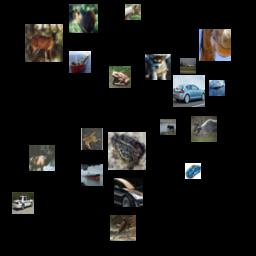airplane: (180, 58, 196, 74), (209, 80, 225, 96)
automobile: (173, 75, 205, 107), (114, 178, 143, 207), (12, 192, 34, 214), (185, 163, 201, 179)
bird: (110, 215, 136, 241)
deer: (25, 24, 63, 62), (69, 4, 98, 33), (191, 116, 217, 142), (29, 145, 55, 171), (160, 119, 176, 135)
dog: (145, 54, 171, 80)
frog: (108, 132, 146, 170), (109, 66, 131, 88), (81, 128, 103, 150)
ship: (69, 51, 91, 73), (81, 164, 103, 186)
